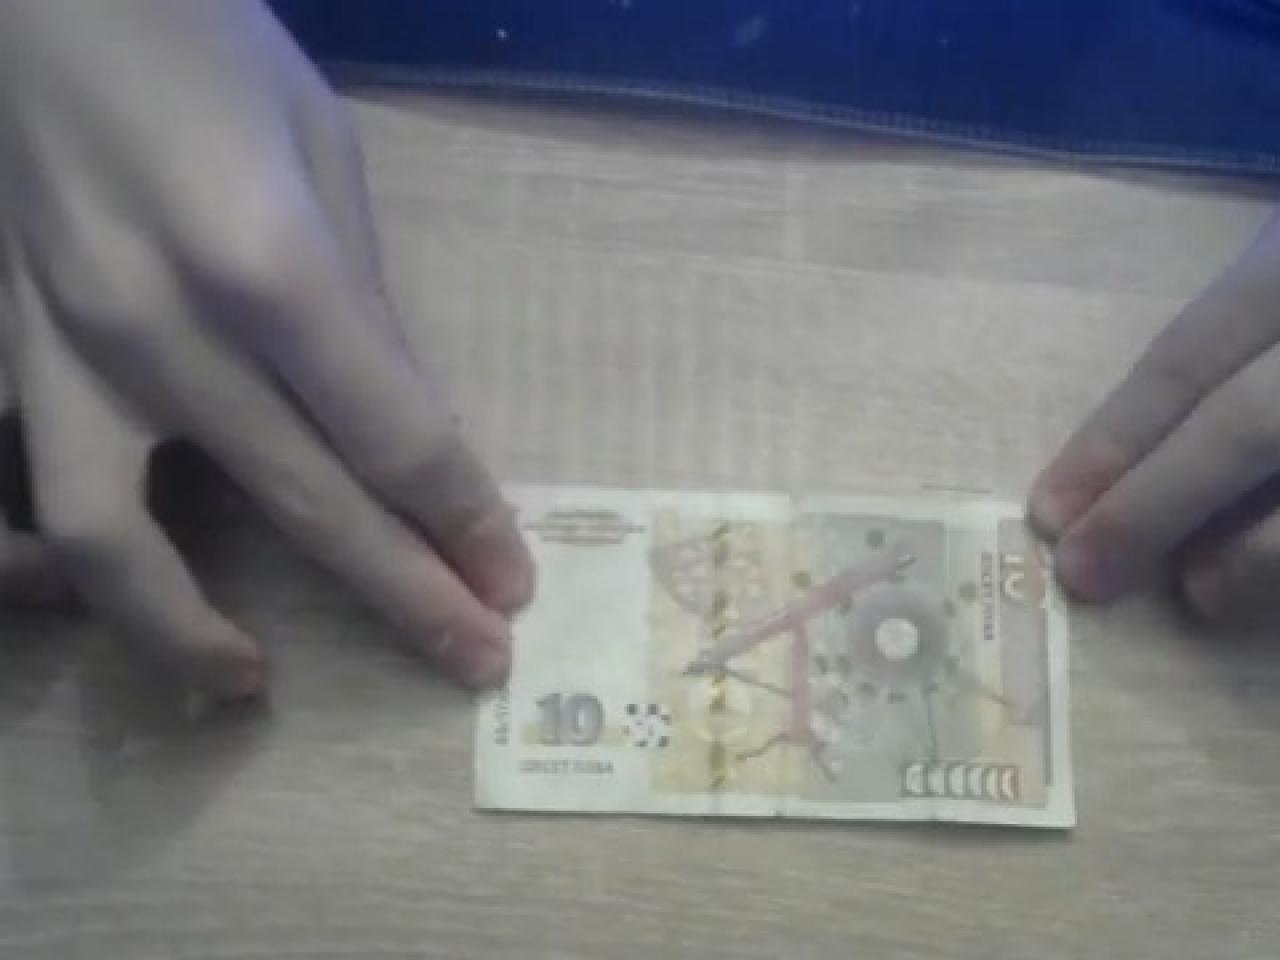10leva: (470, 483, 1077, 840)
